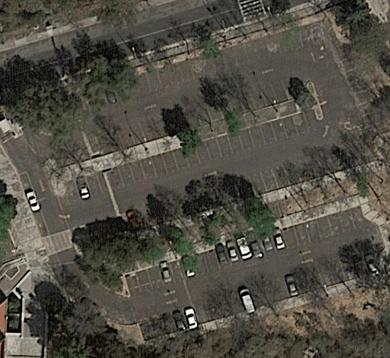parkingspot: (138, 247, 387, 341), (127, 141, 368, 232), (125, 205, 368, 295), (86, 77, 309, 157), (108, 113, 310, 191), (137, 21, 325, 97), (340, 58, 388, 137), (19, 173, 50, 238), (63, 172, 108, 203)
